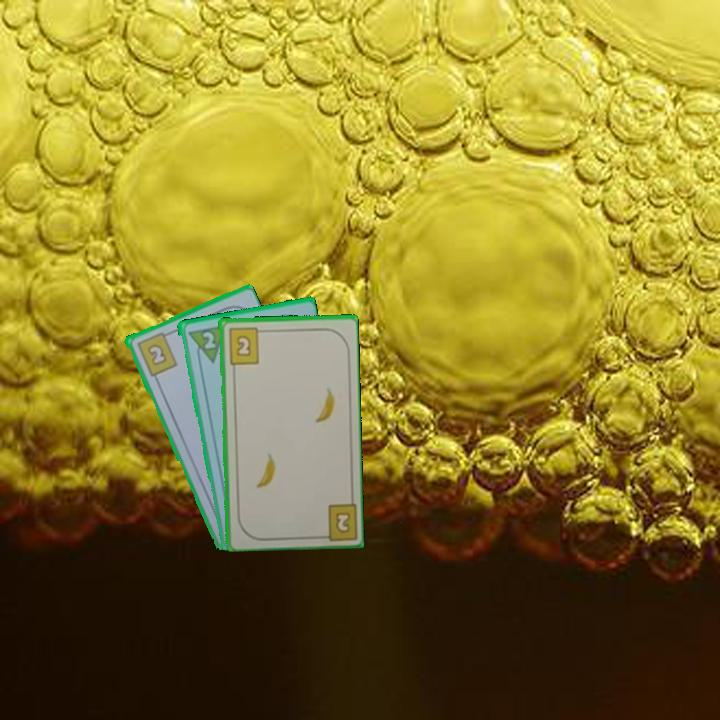2b: (133, 328, 180, 379), (314, 498, 358, 541), (225, 324, 267, 366)
2p: (184, 321, 228, 367)
